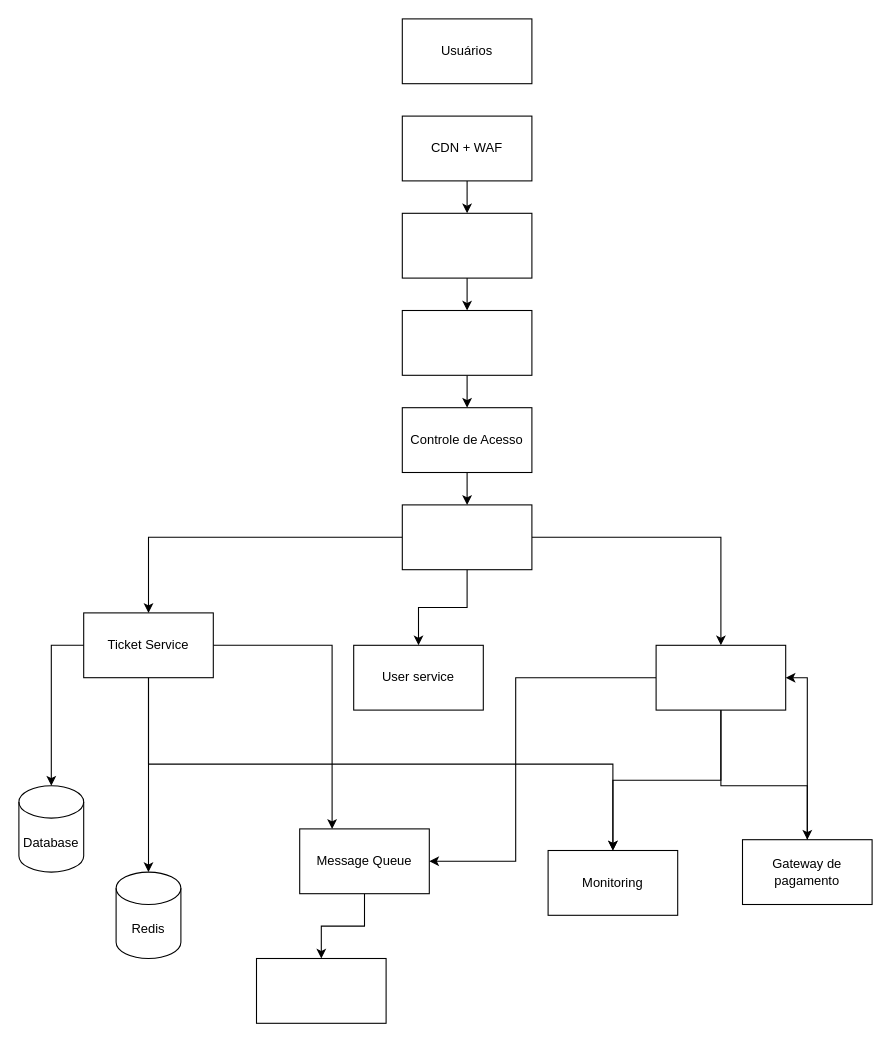
Some shapes in this 891 by 1042 pixel diagram are drawn without their labels. The shapes that lost their labels are listed below. From the top down, each one's centre as x and y in pixels, then its label:
At (466,245): "Load Balancer".
At (466,342): "Fila Virtual".
At (466,537): "API Gateway".
At (720,677): "Payment Service".
At (320,990): "Notification Service".
